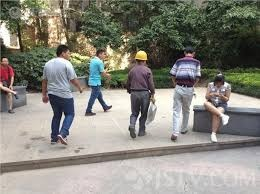none: (55, 43, 70, 61), (182, 44, 195, 59), (213, 73, 225, 89), (95, 48, 106, 60), (1, 56, 10, 68)
yellow: (133, 50, 148, 66)
